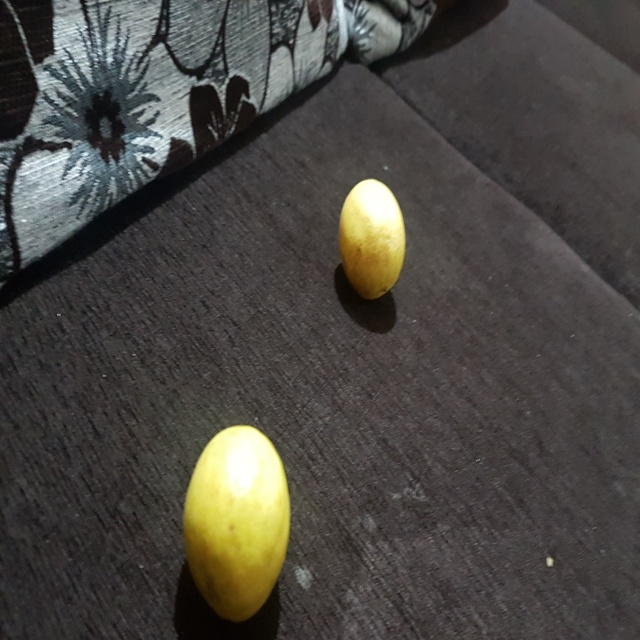lemon: (175, 415, 309, 625), (331, 175, 416, 315)
